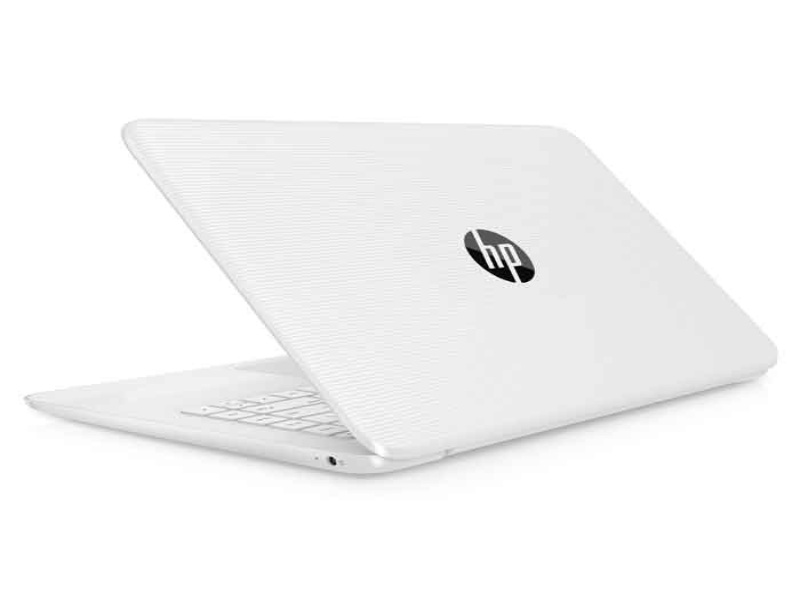hp: (467, 228, 524, 287)
